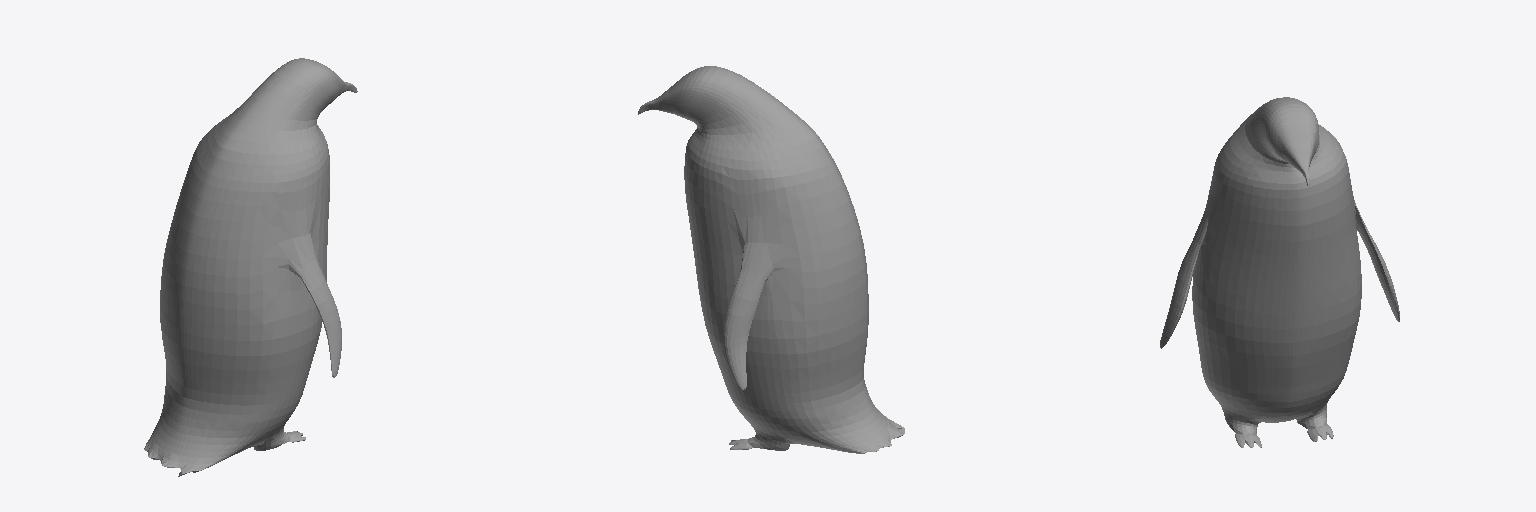
The model's file is penguin.obj.
3 renders of one model, left to right at view 1: azimuth 30°, elevation 25°; view 2: azimuth 150°, elevation 25°; view 3: azimuth 270°, elevation 25°, orthographic.
Visible parts, largest first — view 1: Penguin_Cylinder; view 2: Penguin_Cylinder; view 3: Penguin_Cylinder.
Part boxes in pixels (x1,y1,x2,y2): Penguin_Cylinder: (144,58,357,476); Penguin_Cylinder: (638,66,904,453); Penguin_Cylinder: (1160,97,1399,447).
Bounding box in the file's own units: 2.61 × 3.82 × 2.35.